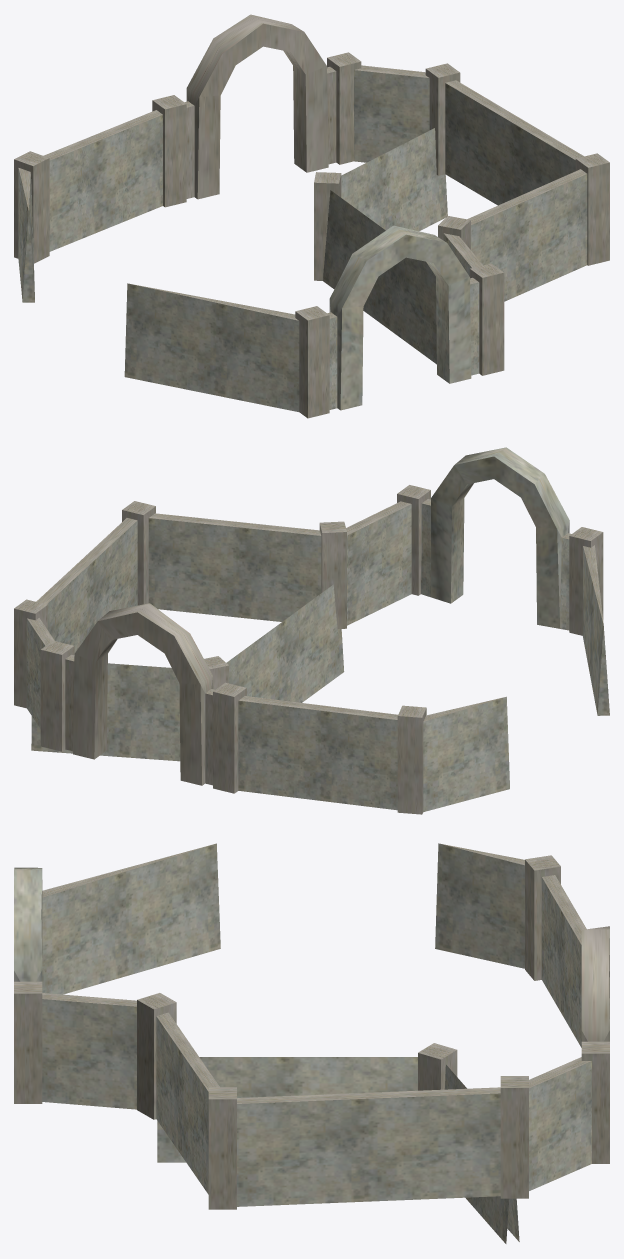
Rendered from poi_all_farm_32x32_s02_l1.fbx.
The picture shows the model from 3 angles, top to bottom: view 1: azimuth 30°, elevation 25°; view 2: azimuth 150°, elevation 25°; view 3: azimuth 270°, elevation 25°; orthographic projection. The views are drawn at different scales.
Visible parts, largest first — view 1: mesh_node; view 2: mesh_node; view 3: mesh_node.
Boxes of the visible parts, x1,y1,x2,y2 form: mesh_node: (14, 14, 609, 418); mesh_node: (14, 447, 609, 814); mesh_node: (14, 843, 609, 1243).
Size of the model in its own units: 22.18 by 9 by 21.
